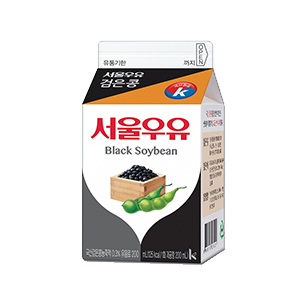milk: (82, 40, 227, 264)
